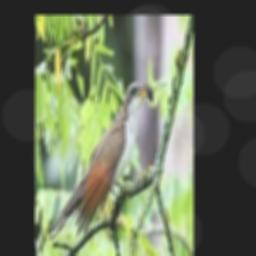Cuckoo: (48, 82, 148, 241)
